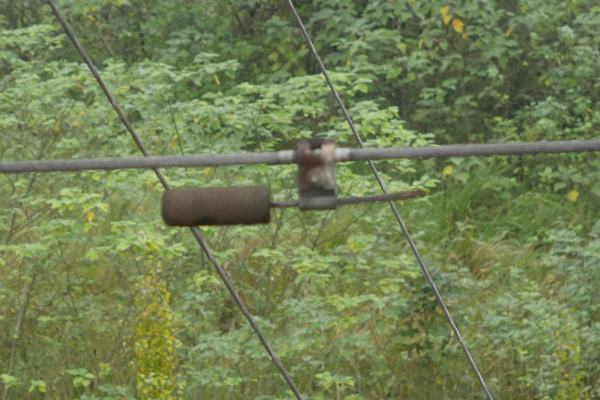damper_defect: (156, 131, 437, 229)
